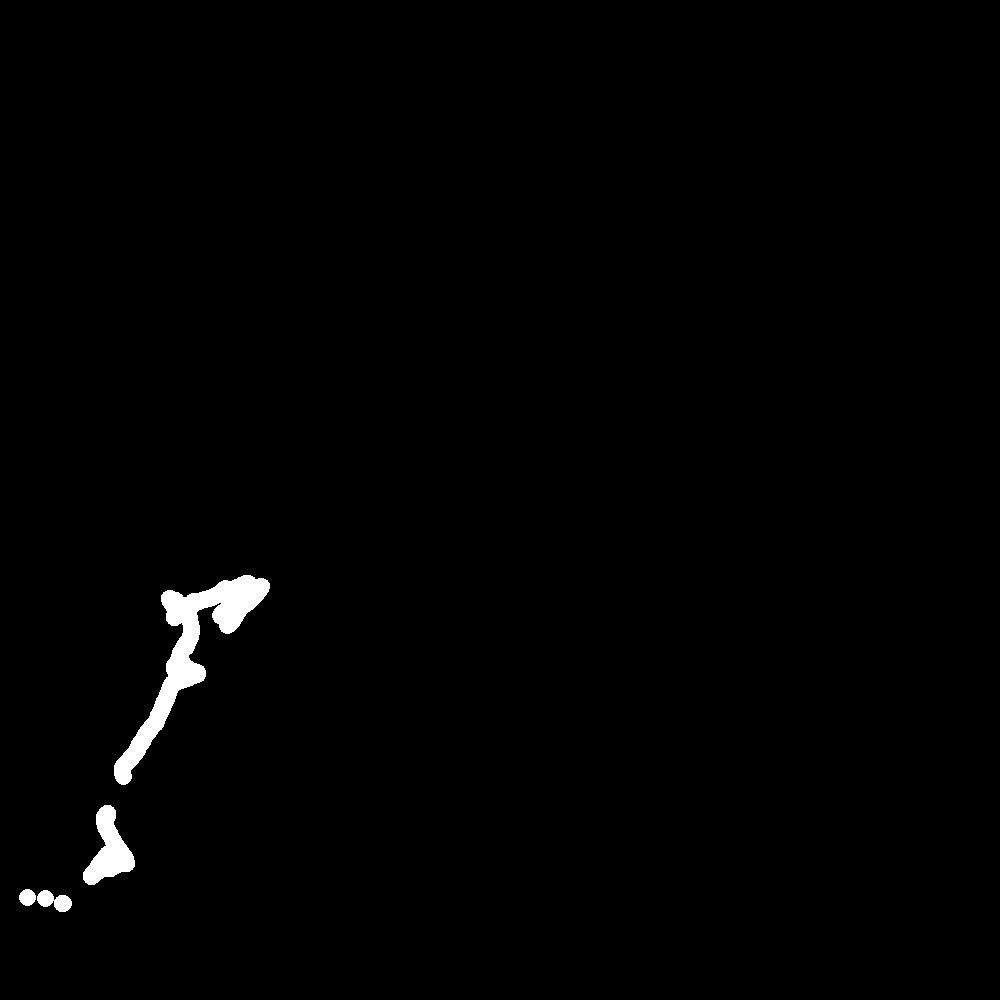illegal: (2, 493, 305, 964)
